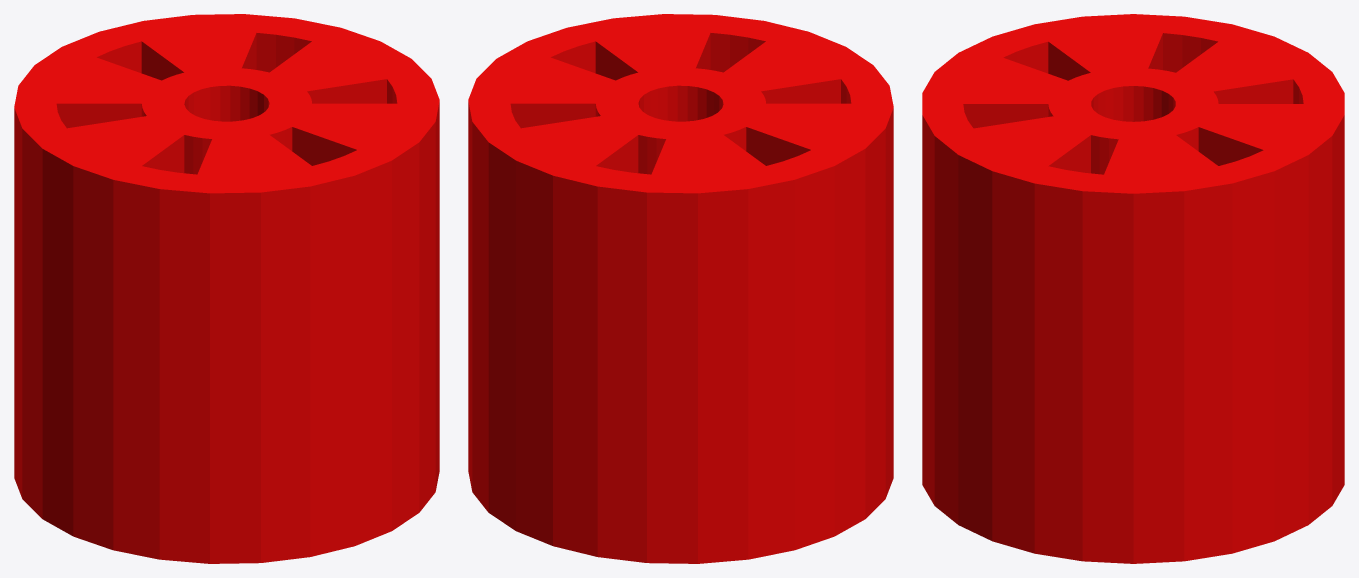
File: wheel_case.dae
The picture shows the model from 3 angles, left to right: view 1: azimuth 30°, elevation 25°; view 2: azimuth 150°, elevation 25°; view 3: azimuth 270°, elevation 25°; orthographic projection.
Visible parts, largest first — view 1: node0; view 2: node0; view 3: node0.
Boxes of the visible parts, x1,y1,x2,y2 form: node0: (14, 14, 439, 563); node0: (468, 14, 893, 563); node0: (922, 14, 1344, 563).
Size of the model in its own units: 0.05 by 0.0496 by 0.048.
